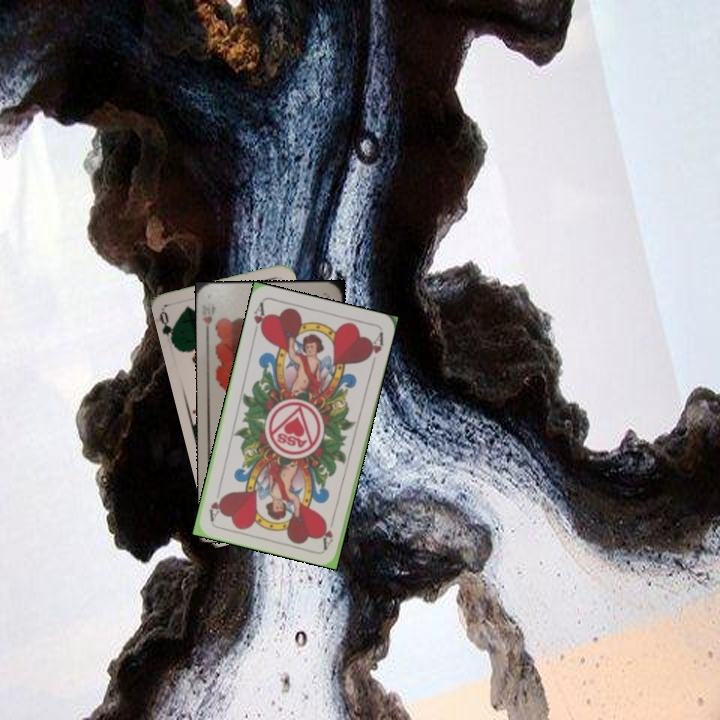GO: (156, 308, 179, 347)
H10: (199, 312, 215, 337)
HA: (250, 298, 269, 339), (319, 510, 337, 550)
